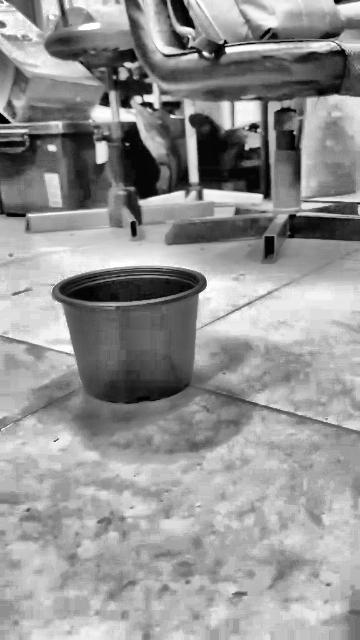pot: (52, 266, 206, 404)
